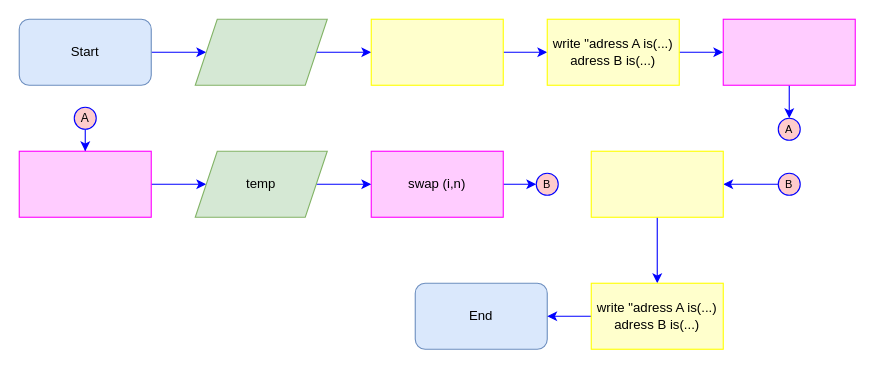
Some shapes in this 875 by 369 pixel diagram are drawn without their labels. Here are the shapes that lost their labels. From the top down, the centre of each, then its label:
the point at 260,51: a = 10 b = 20
the point at 436,51: Write "befor" "value A is (...) and value B is (...)"
the point at 788,51: function(a,b)
the point at 84,183: a = pointer i b = pointer n
the point at 656,183: Write "after" "value A is (...) and value B is (...)"
